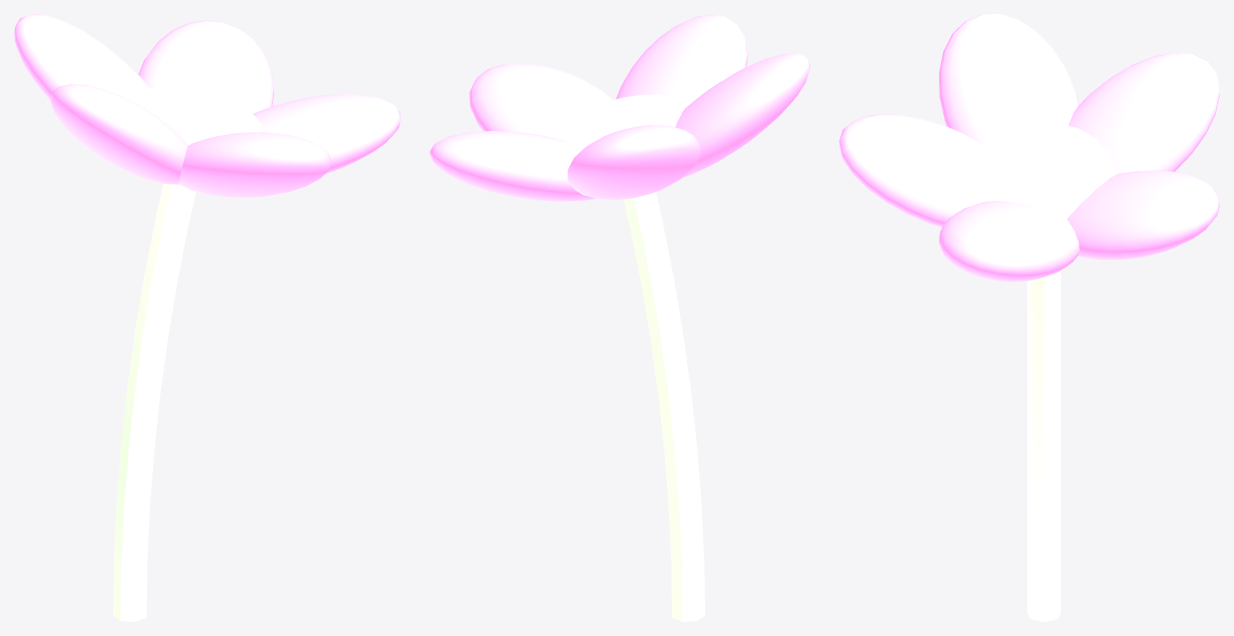
The model's file is flower.gltf.
3 views of the same model, side by side, from view 1: azimuth 30°, elevation 25°; view 2: azimuth 150°, elevation 25°; view 3: azimuth 270°, elevation 25° (orthographic).
Parts seen in each view (by area): view 1: Petal (×5), Stem, Stigma; view 2: Petal (×5), Stem, Stigma; view 3: Petal (×5), Stem, Stigma.
Boxes of the visible parts, x1,y1,x2,y2 form: Petal (×5): [14, 14, 400, 197]; Stem: [113, 184, 195, 621]; Stigma: [130, 86, 262, 145]; Petal (×5): [429, 14, 810, 201]; Stem: [623, 192, 704, 621]; Stigma: [556, 94, 687, 151]; Petal (×5): [839, 14, 1219, 281]; Stem: [1027, 270, 1060, 621]; Stigma: [979, 122, 1116, 218].
Bounding box in the file's own units: 0.072 × 0.1161 × 0.0715.
